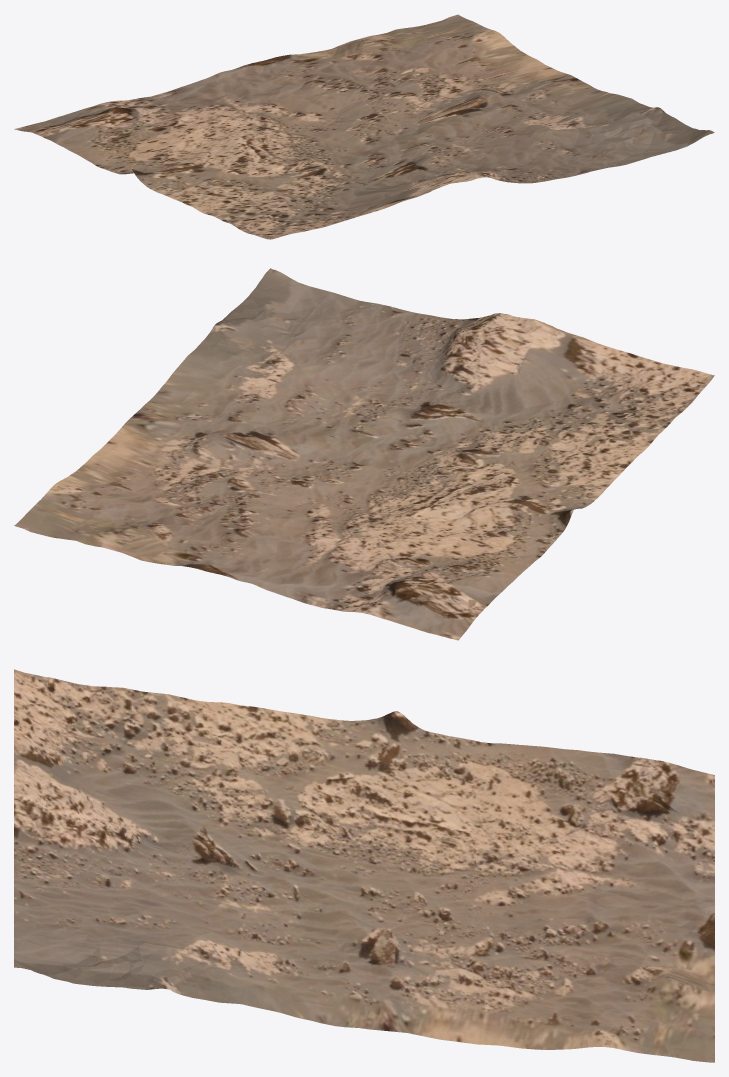
3 renders of one model, top to bottom at view 1: azimuth 30°, elevation 25°; view 2: azimuth 150°, elevation 25°; view 3: azimuth 270°, elevation 25°, orthographic. The views are drawn at different scales.
Bounding box in the file's own units: 2.09 × 0.4047 × 2.09.
Materials: 2 (2 with a texture image).
